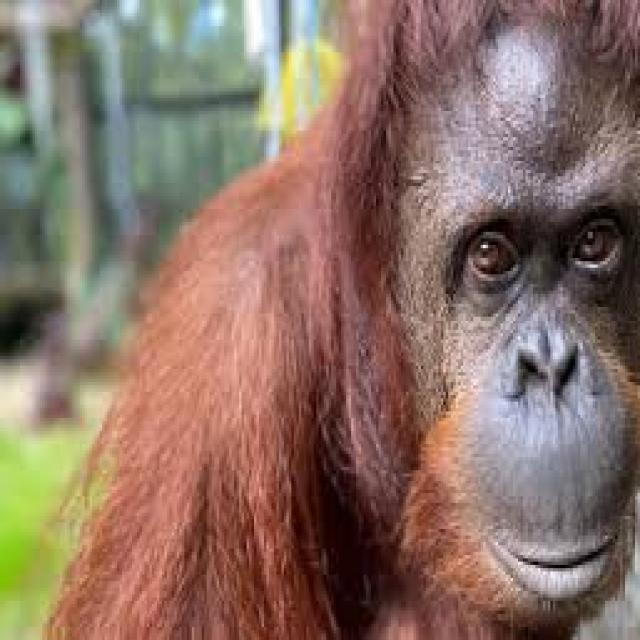Orangutan: (99, 3, 640, 639)
